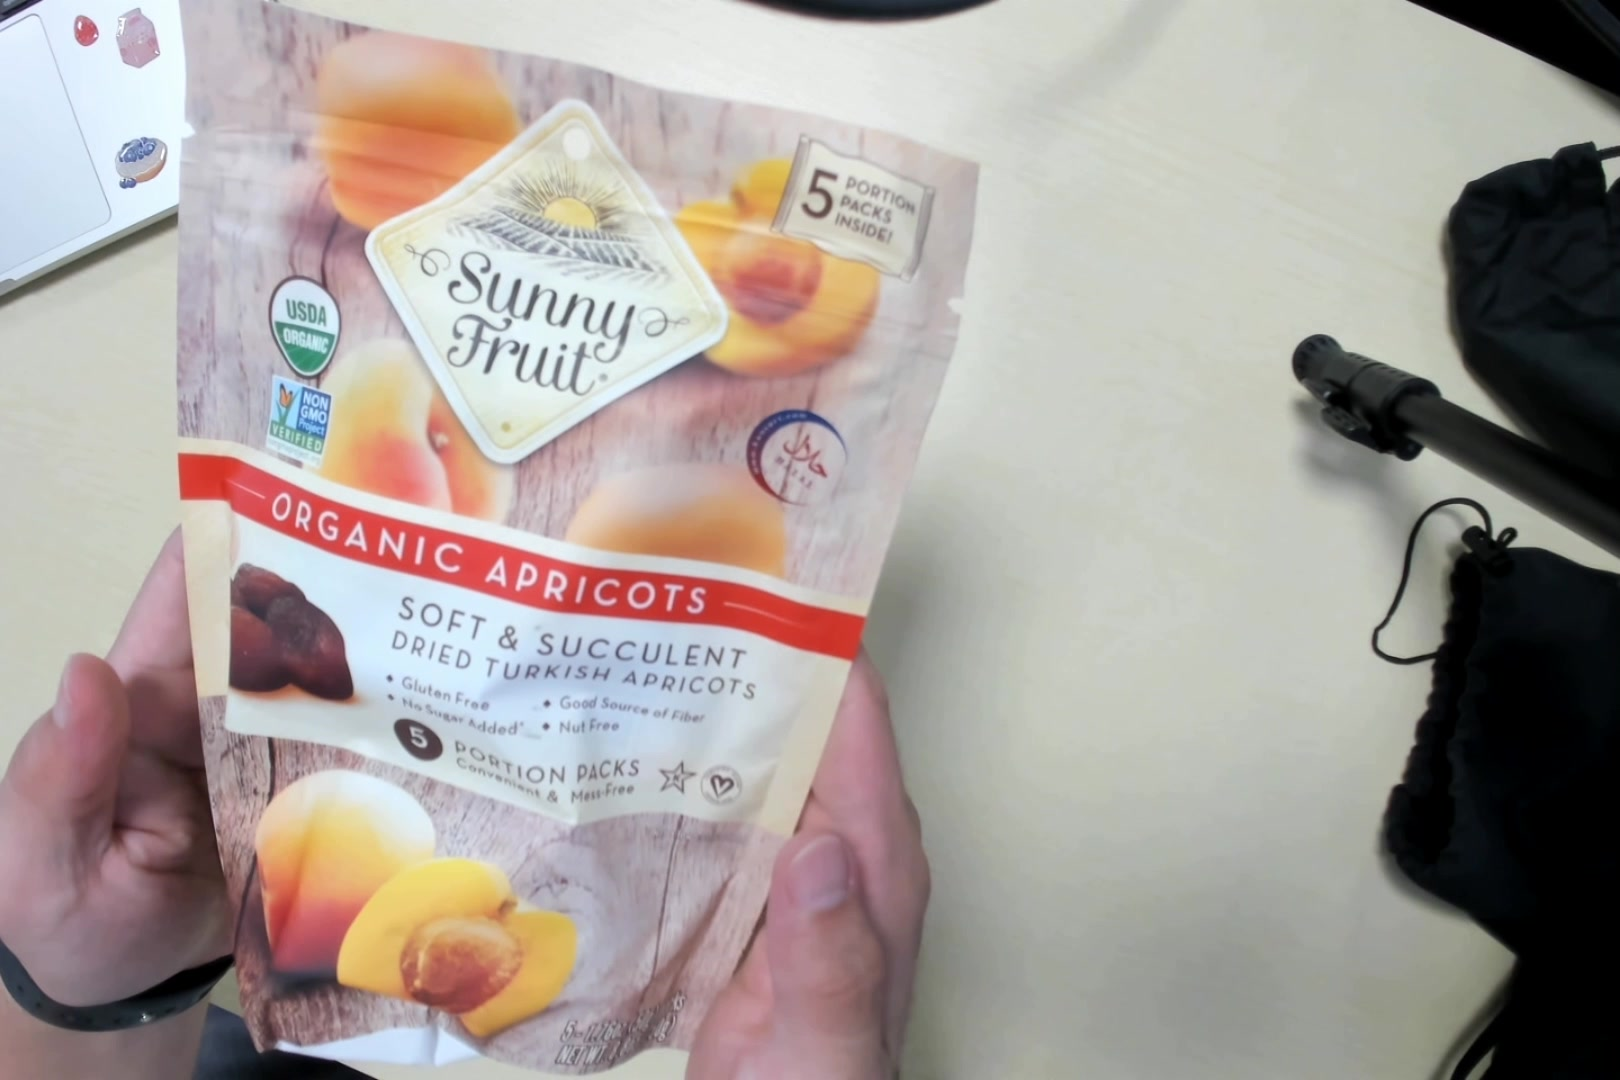DriedFood_0-99g_Halal_NonHealthy: (176, 27, 947, 1080)
